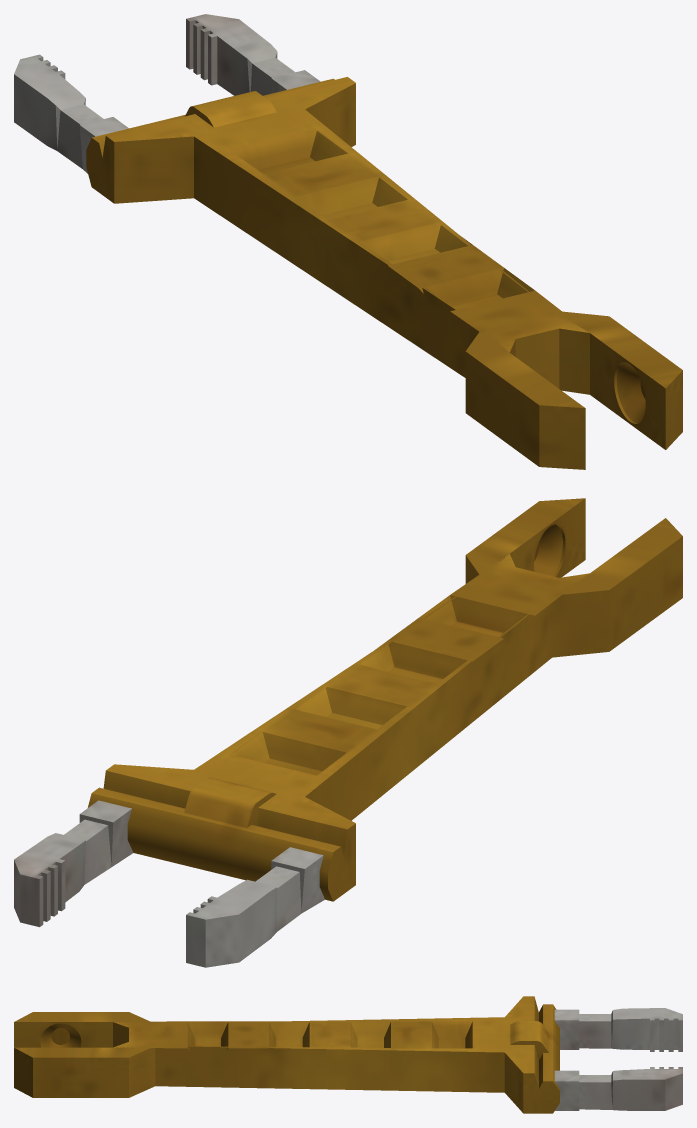
The model's file is inserter-arm-long-hand-closed.glb.
3 renders of one model, top to bottom at view 1: azimuth 30°, elevation 25°; view 2: azimuth 150°, elevation 25°; view 3: azimuth 270°, elevation 25°, orthographic. The views are drawn at different scales.
Visible parts, largest first — view 1: body; view 2: body; view 3: body.
Boxes of the visible parts, x1=… form: body: x1=14, y1=14, x2=682, y2=469; body: x1=14, y1=498, x2=682, y2=967; body: x1=14, y1=996, x2=682, y2=1113.
Size of the model in its own units: 0.3696 by 0.099 by 1.36.
2 materials, 2 textured.
